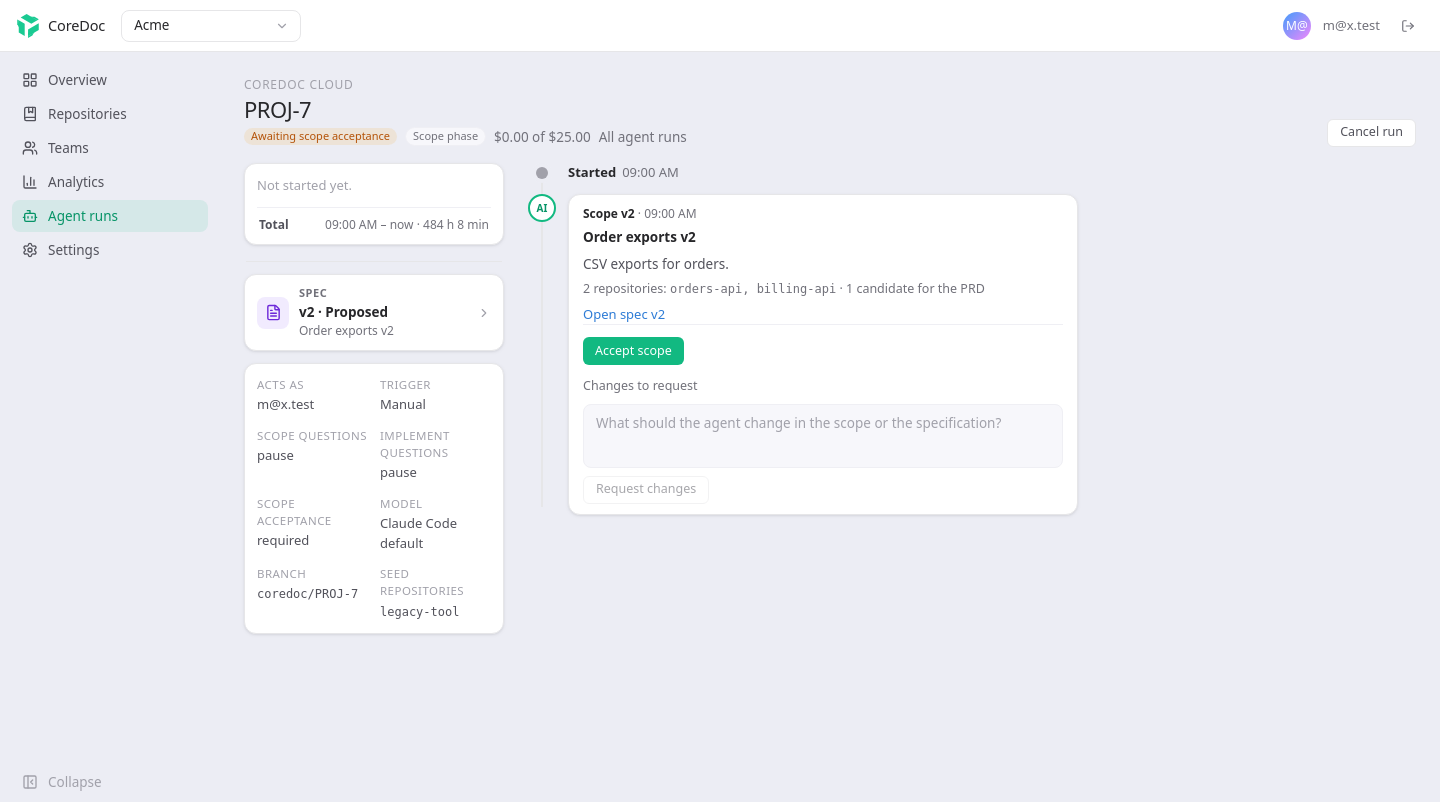
agent runs routes › scope review › switches the spec drawer to an earlier version with the reviewer’s feedback
The width and height of the screenshot is (1440, 802).
Click the button with aria-label "Spec: v2 · Proposed".
click(374, 313)  # box [244,274,504,351]
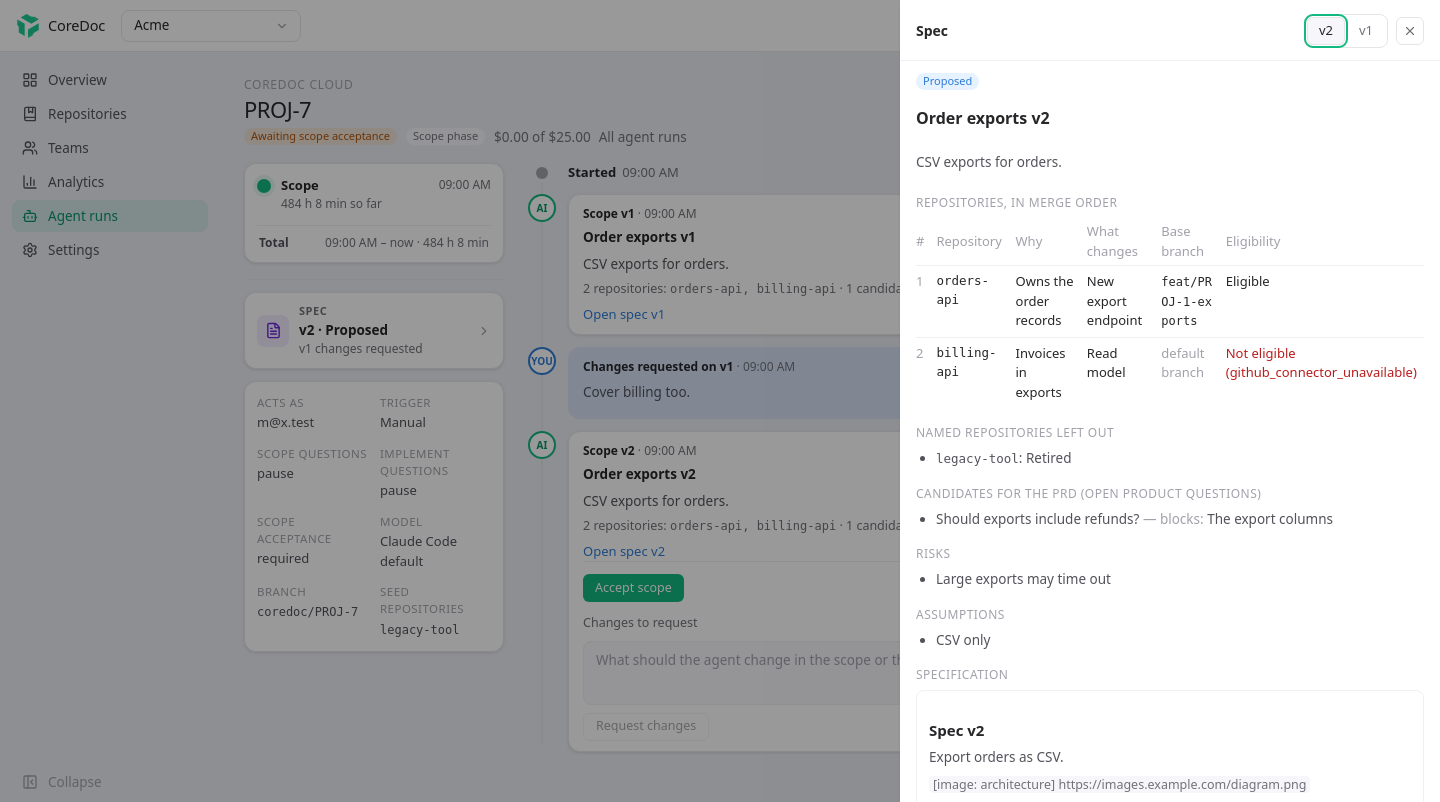
Click the button "v1".
click(1366, 31)  # box [1347,17,1385,44]
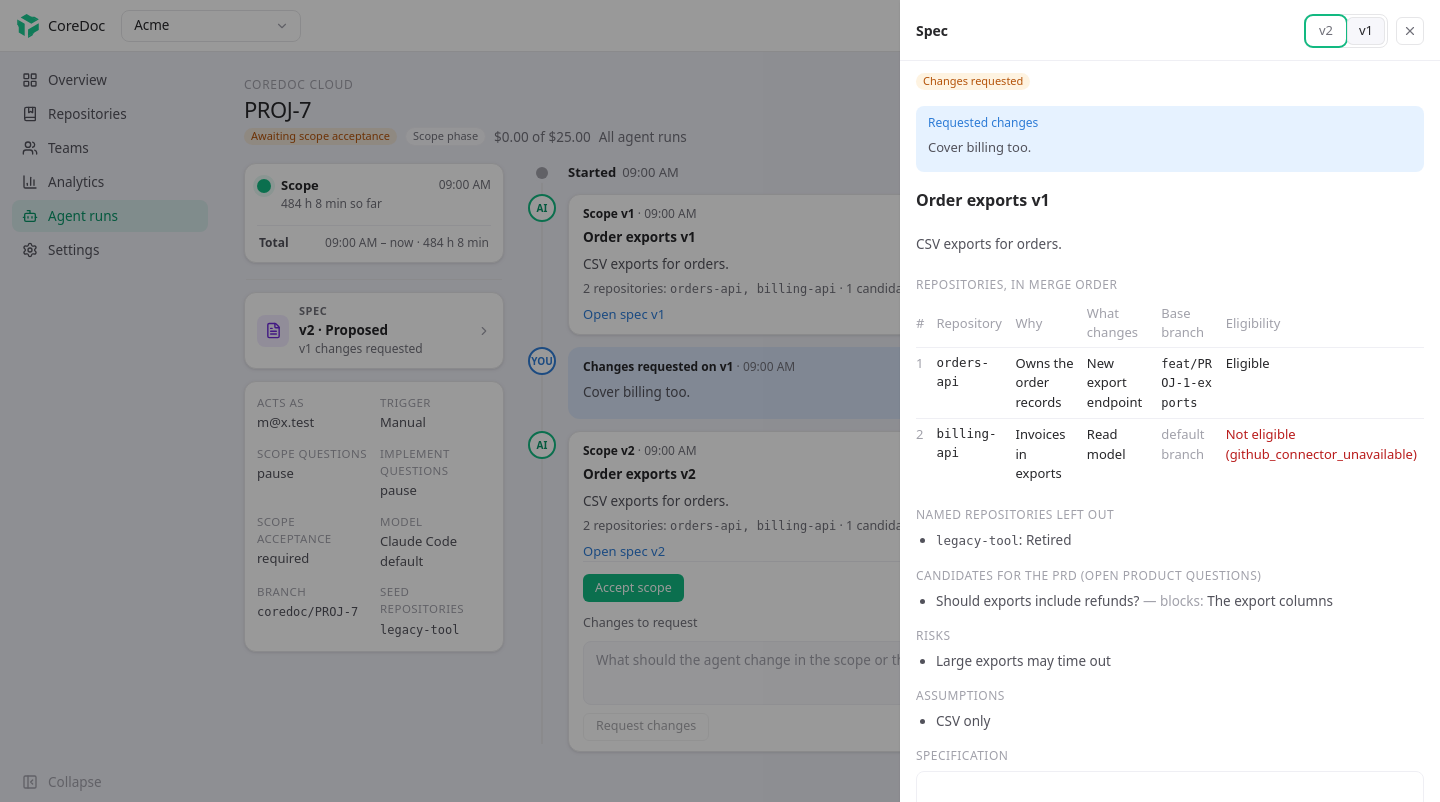
Now the text "Changes requested" is shown, box [916,72,1030,90]
Now the text "Cover billing too." is shown, box [928,138,1031,156]
